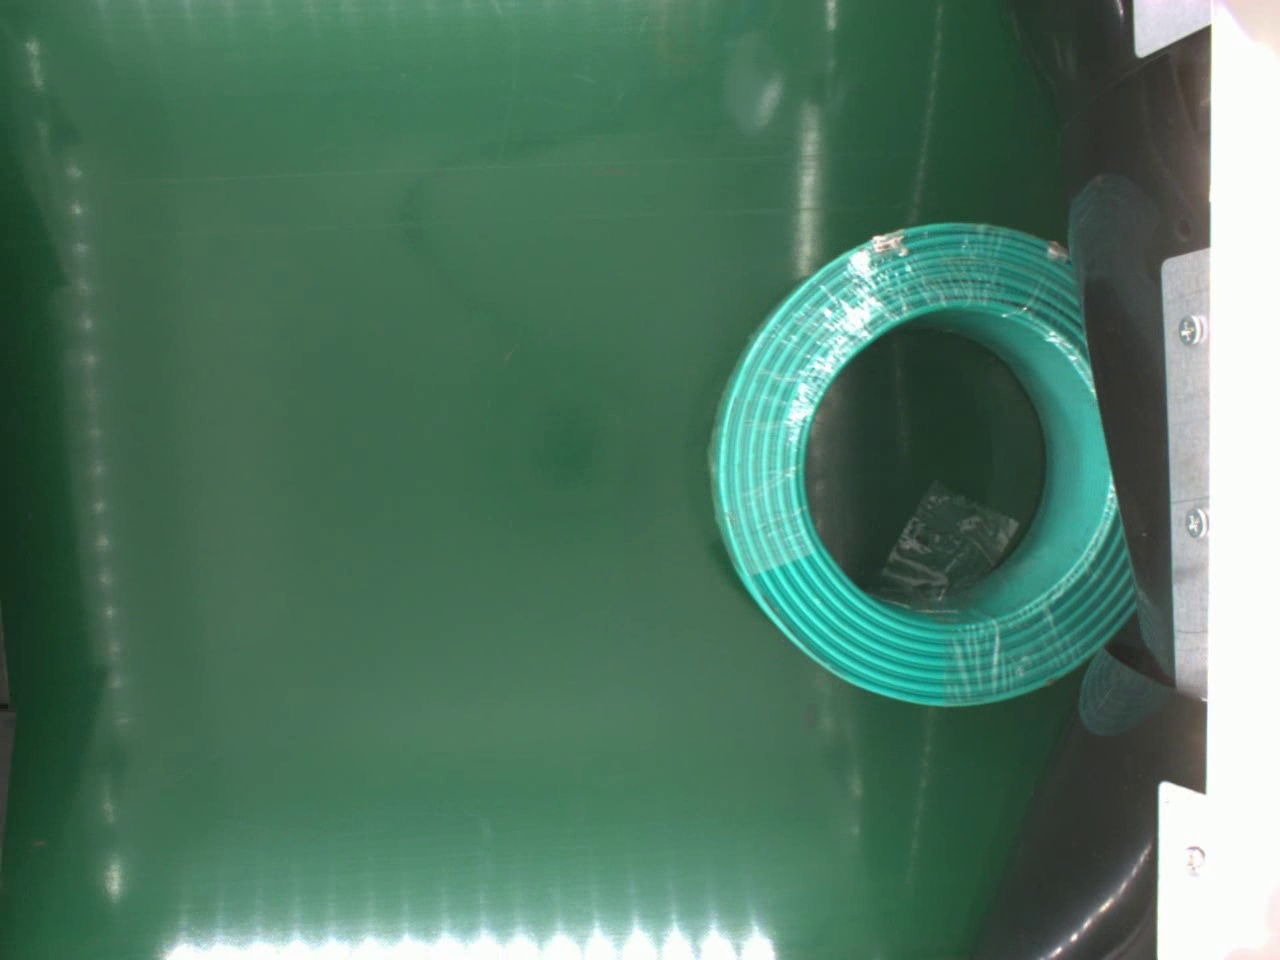green: (705, 216, 1132, 709)
